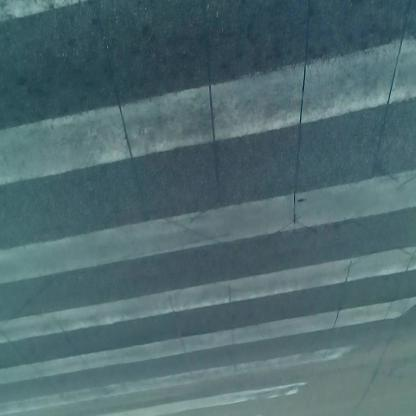crosswalk: (2, 2, 414, 414)
